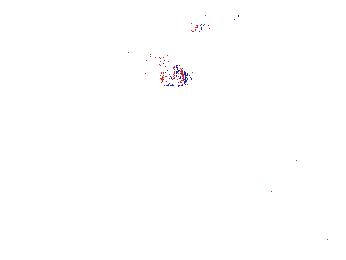X-ray fish: (126, 50, 195, 89)
glassfish: (222, 105, 324, 169)
redtail glassfish: (187, 10, 241, 39), (5, 41, 29, 77)
